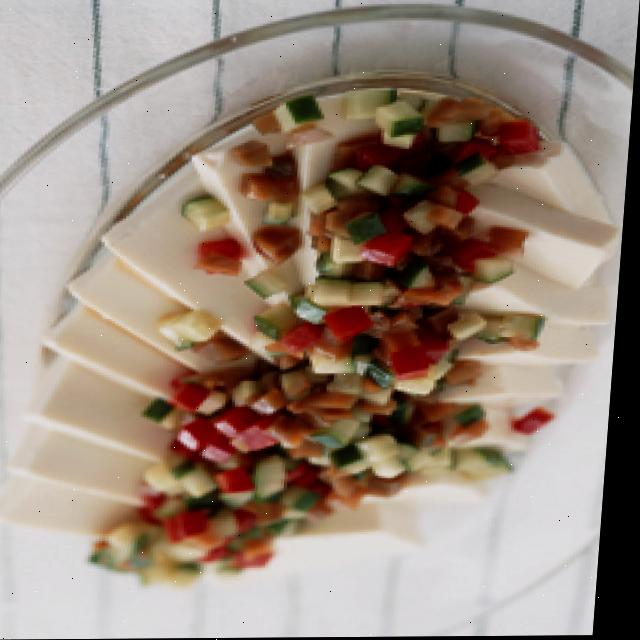豆腐料理: (0, 90, 635, 600)
